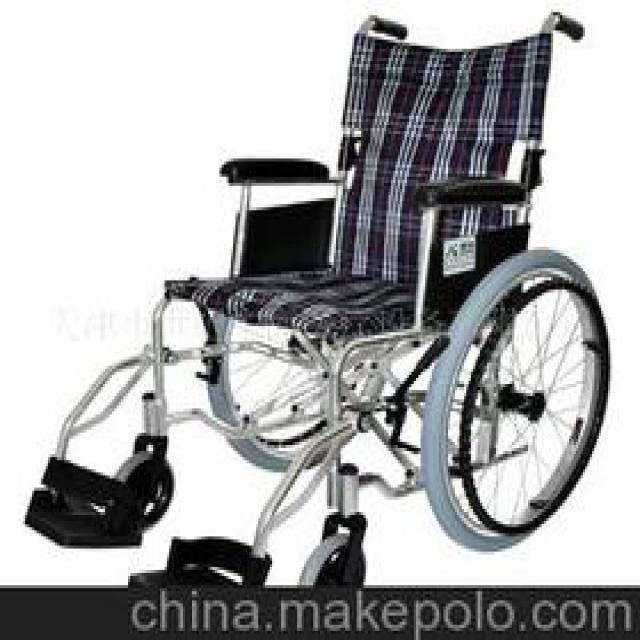wheelchairs: (29, 18, 614, 583)
